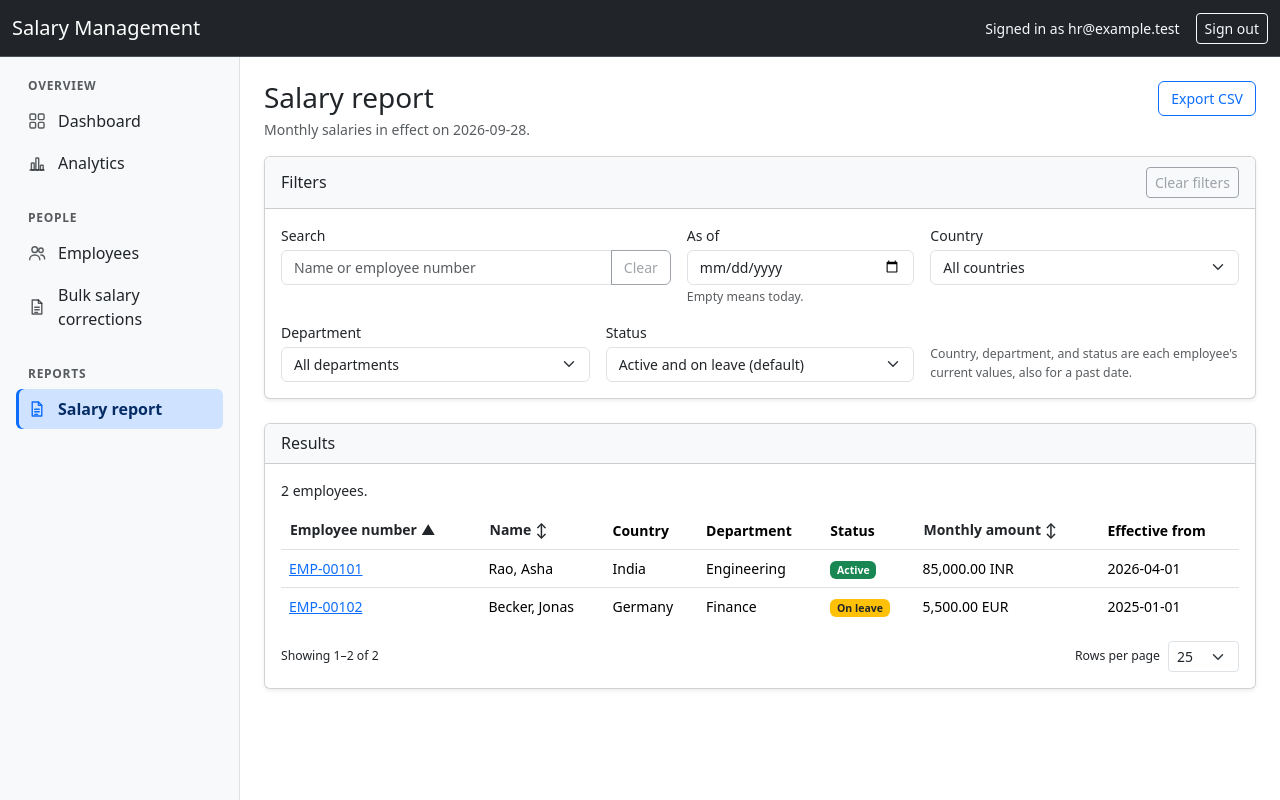
SalaryReportPage › shows the API's message when the export is too large, and saves nothing
Expected: the heading "Salary report" is shown, left=264, top=78, right=434, bottom=116
Expected: the table named "Salary report" is shown, left=281, top=509, right=1239, bottom=625
Click the button "Export CSV".
click(1207, 98)  # box left=1158, top=81, right=1256, bottom=116
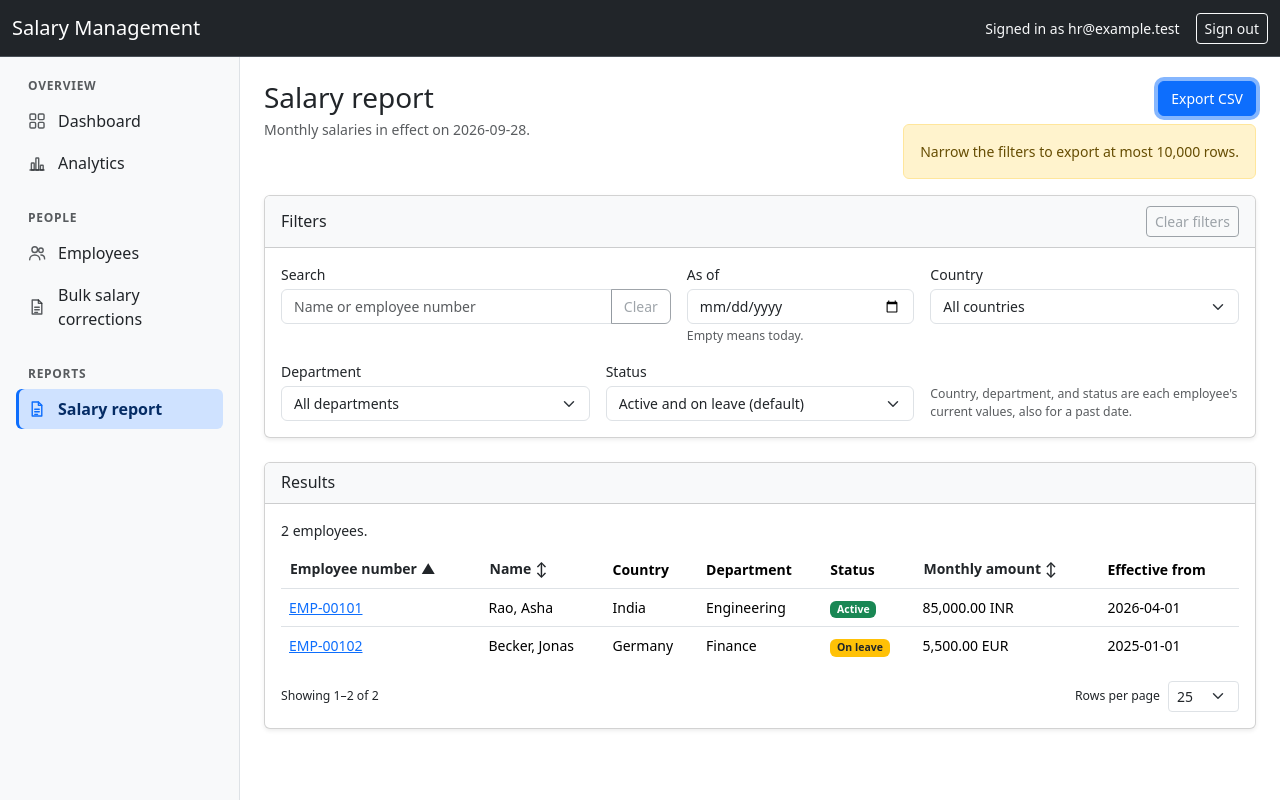
Expected: the message "Narrow the filters to export at most 10,000 rows." is shown, left=903, top=124, right=1256, bottom=179
